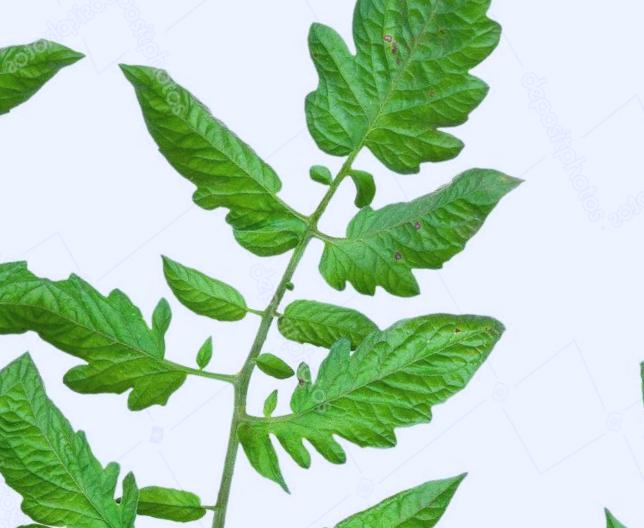Tomato leaf: (232, 249, 519, 528), (272, 0, 523, 201), (86, 41, 331, 245), (295, 120, 517, 335), (0, 334, 198, 528), (230, 417, 475, 528), (22, 273, 212, 412)
